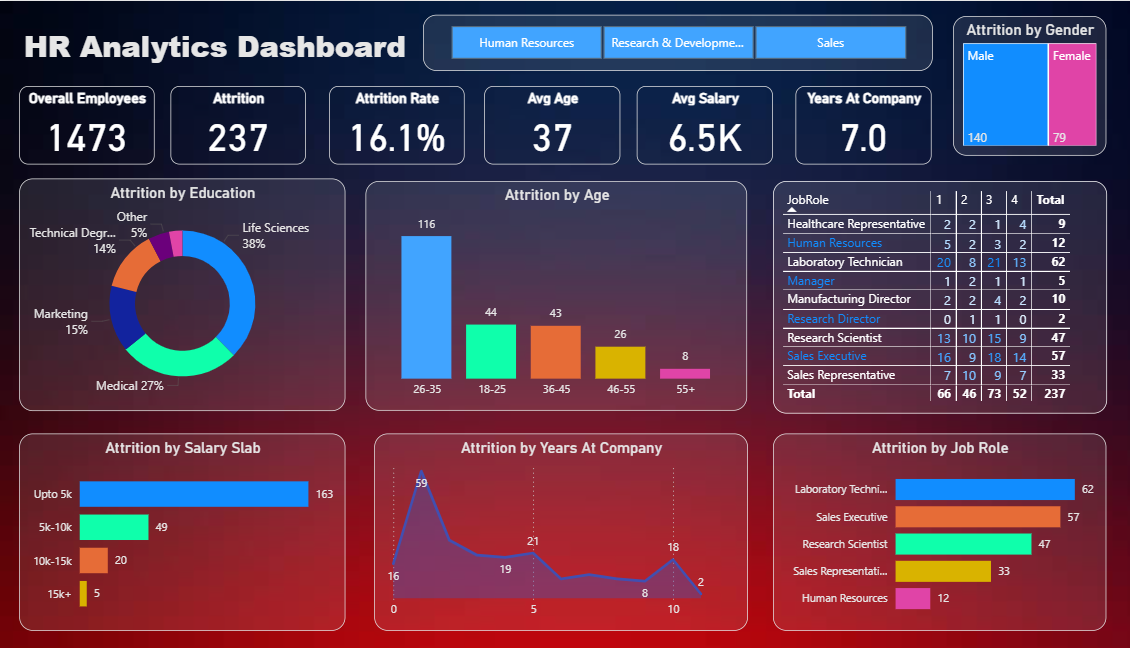

The dashboard page shown, as its layout file describes it:
{"tool":"powerbi","page":{"name":"Page 1","canvas":[1280,720],"ordinal":0},"visuals":[{"type":"card","title":"Overall Employees","fields":{"Values":["CountNonNull(HR_Analytics.EmpID)"]},"box":[23.6,94.4,150,87.5],"z":0},{"type":"card","title":"Attrition","fields":{"Values":["Sum(HR_Analytics.AttritionCount)"]},"box":[191.7,94.4,150,87.5],"z":1000},{"type":"card","title":"Attrition Rate","fields":{"Values":["HR_Analytics.AttritionRate"]},"box":[368.1,94.4,150,87.5],"z":2000},{"type":"card","title":"Avg Age","fields":{"Values":["Avg(HR_Analytics.Age)"]},"box":[540.3,94.4,151.4,87.5],"z":3000},{"type":"card","title":"Avg Salary","fields":{"Values":["Avg(HR_Analytics.MonthlyIncome)"]},"box":[709.7,94.4,151.4,87.5],"z":4000},{"type":"card","title":"Years At Company","fields":{"Values":["Avg(HR_Analytics.YearsAtCompany)"]},"box":[886.1,94.4,151.4,87.5],"z":5000},{"type":"donutChart","title":"Attrition by Education","fields":{"Category":["HR_Analytics.EducationField"],"Y":["Sum(HR_Analytics.AttritionCount)"]},"box":[23,197.3,362.2,258.1],"z":6000},{"type":"columnChart","title":"Attrition by Age","fields":{"Category":["HR_Analytics.AgeGroup"],"Y":["Sum(HR_Analytics.AttritionCount)"]},"box":[408.1,200,424.3,255.4],"z":7000},{"type":"pivotTable","fields":{"Rows":["HR_Analytics.JobRole"],"Columns":["HR_Analytics.JobSatisfaction"],"Values":["Sum(HR_Analytics.AttritionCount)"]},"box":[861.3,200,371,258.1],"z":8000},{"type":"barChart","title":"Attrition by Salary Slab","fields":{"Category":["HR_Analytics.SalarySlab"],"Y":["Sum(HR_Analytics.AttritionCount)"]},"box":[23,481.1,362.2,218.9],"z":9000},{"type":"barChart","title":"Attrition by Job Role","fields":{"Category":["HR_Analytics.JobRole"],"Y":["Sum(HR_Analytics.AttritionCount)"]},"box":[860.8,481.1,370.3,218.9],"z":10000},{"type":"areaChart","title":"Attrition by Years At Company","fields":{"Category":["HR_Analytics.YearsAtCompany"],"Y":["Sum(HR_Analytics.AttritionCount)"]},"box":[417.6,481.1,414.9,218.9],"z":11000},{"type":"treemap","title":"Attrition by Gender","fields":{"Group":["HR_Analytics.Gender"],"Values":["Sum(HR_Analytics.AttritionCount)"]},"box":[1060.8,16.2,170.3,155.4],"z":12000},{"type":"slicer","fields":{"Values":["HR_Analytics.Department"]},"box":[471.6,14.9,566.2,62.2],"z":13000},{"type":"textbox","box":[23,21.6,448.6,55.4],"z":14000}]}

Visuals, with their boxes in screenshot pixels (x1, y1, x2, y2), scaled from the page's 1280x720 canvas onto the 1130x648 screenshot:
"Overall Employees" card: {"left": 21, "top": 85, "right": 153, "bottom": 164}
"Attrition" card: {"left": 169, "top": 85, "right": 302, "bottom": 164}
"Attrition Rate" card: {"left": 325, "top": 85, "right": 457, "bottom": 164}
"Avg Age" card: {"left": 477, "top": 85, "right": 611, "bottom": 164}
"Avg Salary" card: {"left": 627, "top": 85, "right": 760, "bottom": 164}
"Years At Company" card: {"left": 782, "top": 85, "right": 916, "bottom": 164}
"Attrition by Education" donutChart: {"left": 20, "top": 178, "right": 340, "bottom": 410}
"Attrition by Age" columnChart: {"left": 360, "top": 180, "right": 735, "bottom": 410}
pivotTable - HR_Analytics.JobRole x HR_Analytics.JobSatisfaction: {"left": 760, "top": 180, "right": 1088, "bottom": 412}
"Attrition by Salary Slab" barChart: {"left": 20, "top": 433, "right": 340, "bottom": 630}
"Attrition by Job Role" barChart: {"left": 760, "top": 433, "right": 1087, "bottom": 630}
"Attrition by Years At Company" areaChart: {"left": 369, "top": 433, "right": 735, "bottom": 630}
"Attrition by Gender" treemap: {"left": 936, "top": 15, "right": 1087, "bottom": 154}
slicer - HR_Analytics.Department: {"left": 416, "top": 13, "right": 916, "bottom": 69}
textbox: {"left": 20, "top": 19, "right": 416, "bottom": 69}
